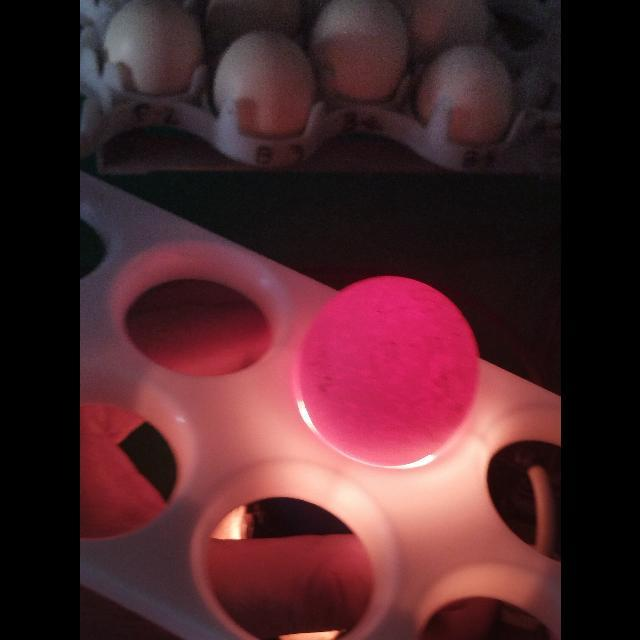Infertile: (294, 272, 482, 468)
